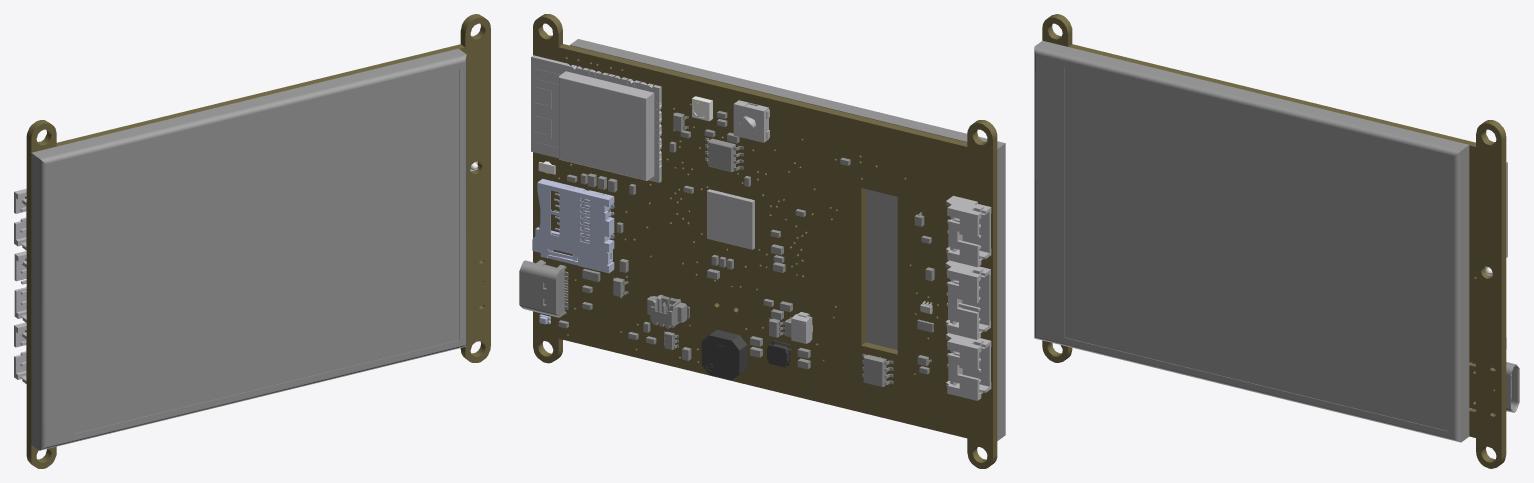
File: ada-4444.glb
3 renders of one model, left to right at view 1: azimuth 30°, elevation 25°; view 2: azimuth 150°, elevation 25°; view 3: azimuth 330°, elevation 25°, orthographic.
Visible parts, largest first — view 1: 0.3333333333333333_0.3333333333333333_0.3333333333333333_0, 0.16666666666666666_0.16666666666666666_0.08333333333333333_, 0.5833333333333334_0.5833333333333334_0.5833333333333334_0.8; view 2: 0.16666666666666666_0.16666666666666666_0.08333333333333333_, 0.5833333333333334_0.5833333333333334_0.5833333333333334_0.8, 0.3333333333333333_0.3333333333333333_0.3333333333333333_0, 0.5833333333333334_0.6666666666666666_0.8333333333333334_0, 0.08333333333333333_0.08333333333333333_0.08333333333333333_, 0.9166666666666666_0.9166666666666666_0.9166666666666666_0.8; view 3: 0.3333333333333333_0.3333333333333333_0.3333333333333333_0, 0.16666666666666666_0.16666666666666666_0.08333333333333333_.
Boxes of the visible parts, box(x1,y1,x2,y2) form: 0.3333333333333333_0.3333333333333333_0.3333333333333333_0: box(31, 48, 480, 450); 0.16666666666666666_0.16666666666666666_0.08333333333333333_: box(26, 14, 490, 468); 0.5833333333333334_0.5833333333333334_0.5833333333333334_0.8: box(14, 188, 26, 383); 0.16666666666666666_0.16666666666666666_0.08333333333333333_: box(533, 14, 997, 468); 0.5833333333333334_0.5833333333333334_0.5833333333333334_0.8: box(531, 55, 991, 400); 0.3333333333333333_0.3333333333333333_0.3333333333333333_0: box(519, 39, 1005, 440); 0.5833333333333334_0.6666666666666666_0.8333333333333334_0: box(532, 178, 614, 324); 0.08333333333333333_0.08333333333333333_0.08333333333333333_: box(701, 329, 791, 380); 0.9166666666666666_0.9166666666666666_0.9166666666666666_0.8: box(538, 96, 712, 174); 0.3333333333333333_0.3333333333333333_0.3333333333333333_0: box(1034, 40, 1519, 442); 0.16666666666666666_0.16666666666666666_0.08333333333333333_: box(1042, 14, 1506, 468).
Size of the model in its own units: 9.23 by 6.57 by 1.01.
